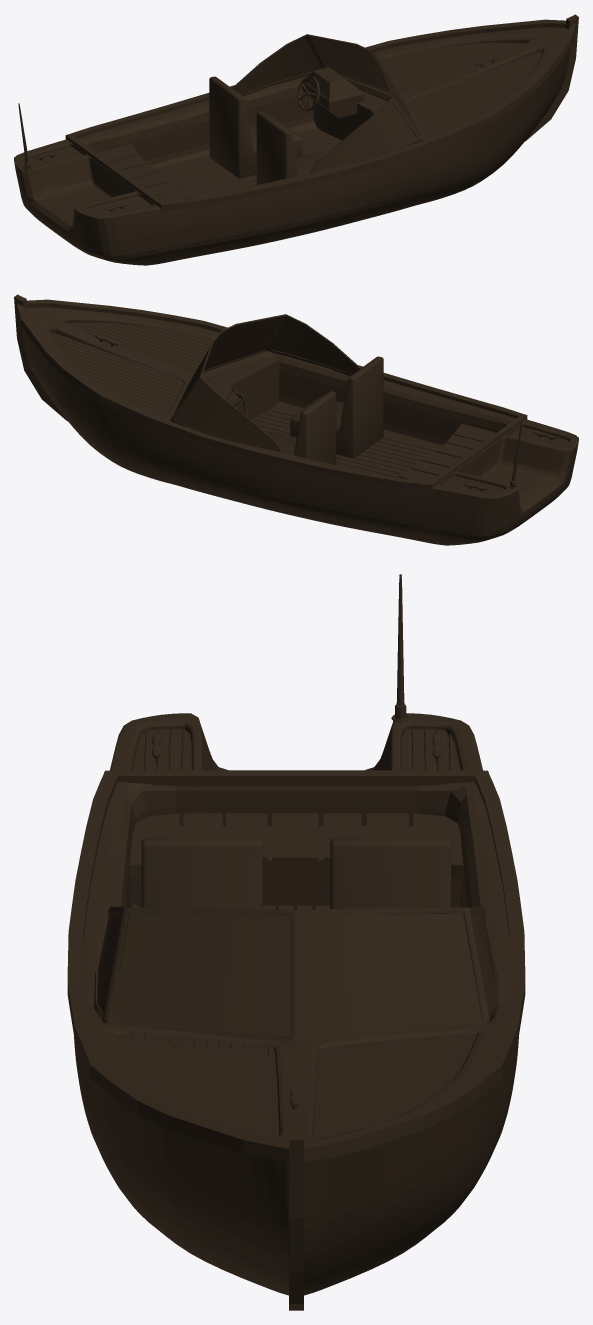
The model's file is Boat.obj.
3 renders of one model, top to bottom at view 1: azimuth 30°, elevation 25°; view 2: azimuth 150°, elevation 25°; view 3: azimuth 270°, elevation 25°, orthographic. The views are drawn at different scales.
Parts seen in each view (by area): view 1: Boat__Cube.002; view 2: Boat__Cube.002; view 3: Boat__Cube.002.
Part boxes in pixels (x1,y1,x2,y2): Boat__Cube.002: (14, 14, 578, 265); Boat__Cube.002: (14, 294, 578, 545); Boat__Cube.002: (67, 574, 525, 1310).
Bounding box in the file's own units: 27.65 × 7.34 × 10.29.
